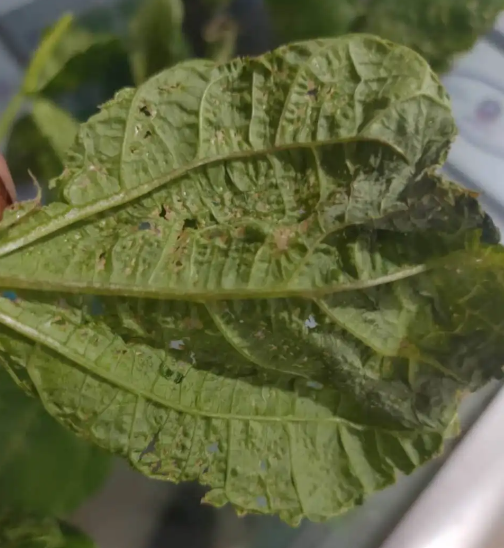thrips: (7, 40, 504, 526)
